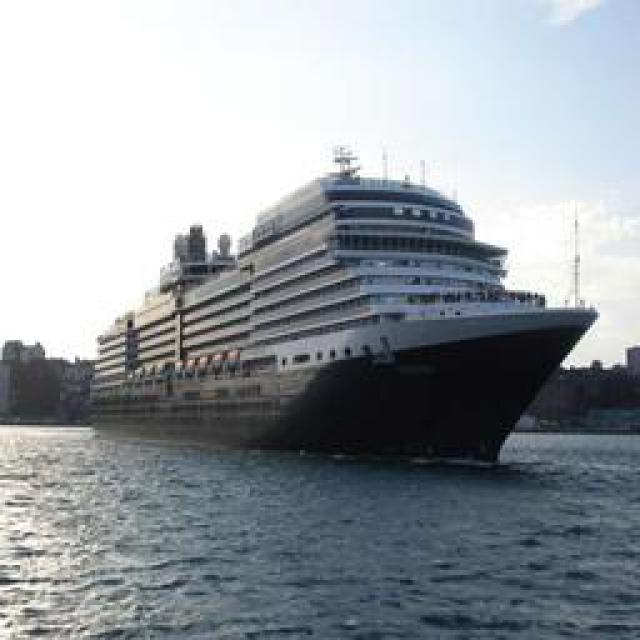Ship: (81, 156, 606, 459)
